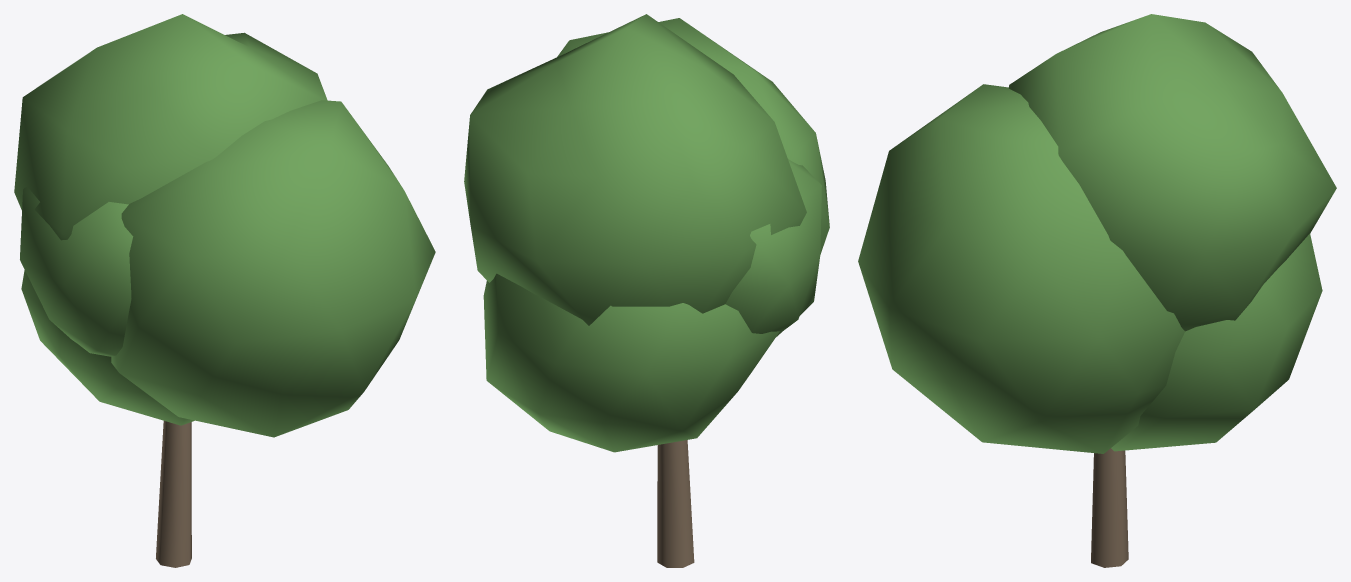
Rendered from tree_b.glb.
3 views of the same model, side by side, from view 1: azimuth 30°, elevation 25°; view 2: azimuth 150°, elevation 25°; view 3: azimuth 270°, elevation 25° (orthographic). The views are drawn at different scales.
Parts seen in each view (by area): view 1: Tree; view 2: Tree; view 3: Tree.
Part boxes in pixels (x1,y1,x2,y2): Tree: [14, 14, 435, 567]; Tree: [464, 14, 829, 567]; Tree: [858, 14, 1336, 567].
Size of the model in its own units: 4.56 by 6.87 by 5.32.
